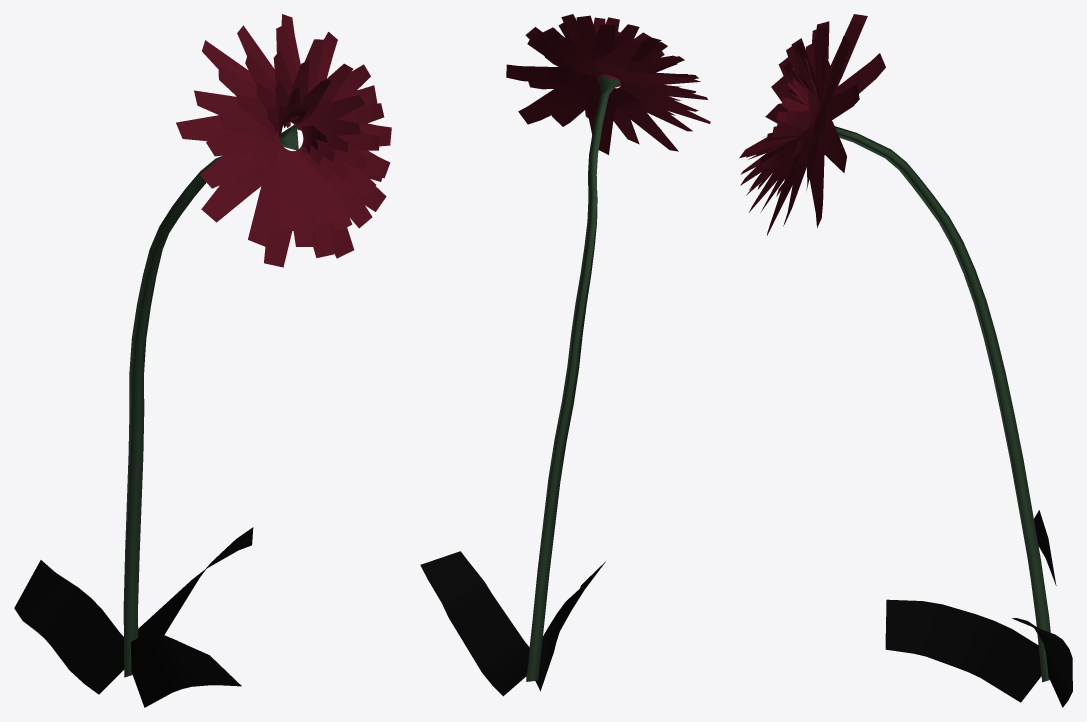
File: Flower 1.fbx
3 renders of one model, left to right at view 1: azimuth 30°, elevation 25°; view 2: azimuth 150°, elevation 25°; view 3: azimuth 270°, elevation 25°, orthographic. The views are drawn at different scales.
Visible parts, largest first — view 1: dahliaRed1MainShape; view 2: dahliaRed1MainShape; view 3: dahliaRed1MainShape.
Boxes of the visible parts, box(x1,y1,x2,y2) form: dahliaRed1MainShape: box(14, 14, 391, 707); dahliaRed1MainShape: box(420, 14, 710, 696); dahliaRed1MainShape: box(739, 14, 1072, 707).
Size of the model in its own units: 0.4345 by 1.17 by 0.5174.
